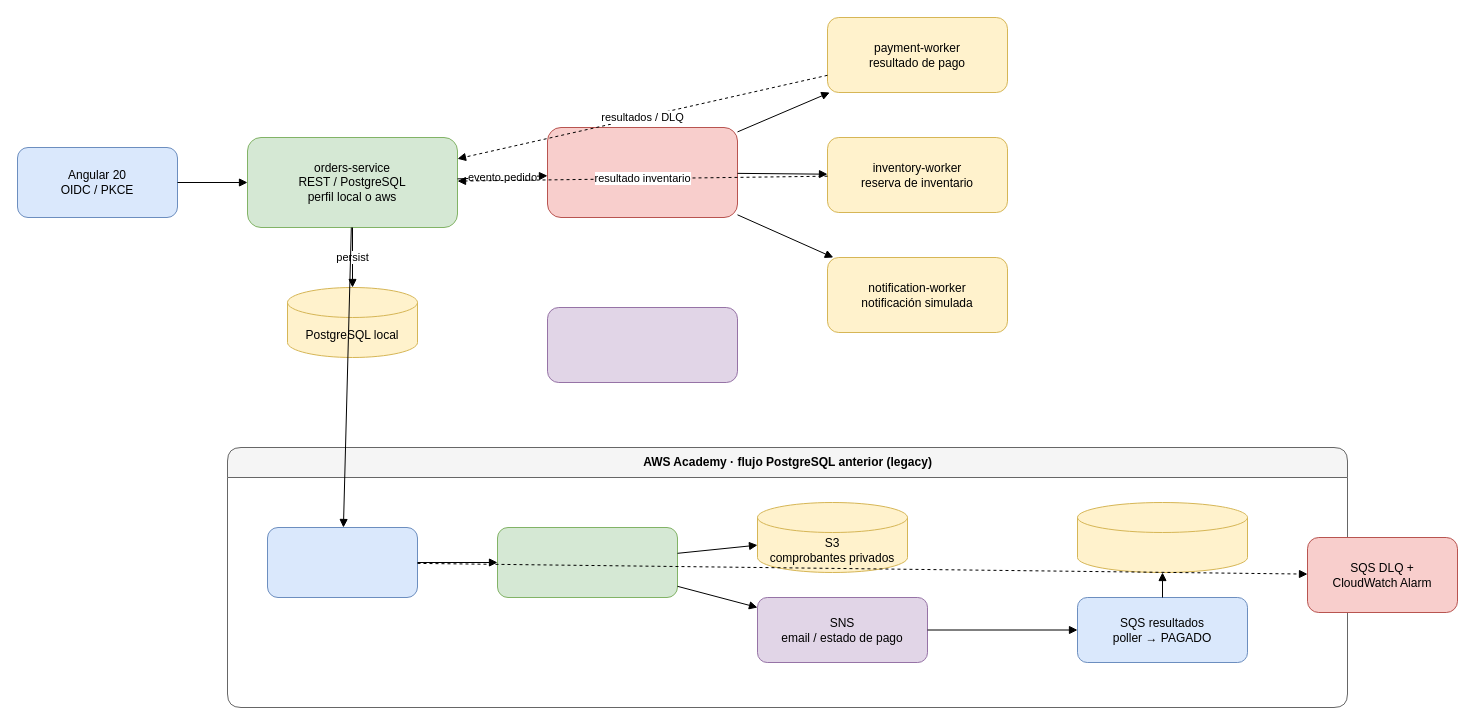
The diagram is 1475 pixels wide and 725 high, and some of its shapes have lost their labels. The centre of each missing label's shape, as x and y in pixels:
Lambda Java 21 procesa / falla veneno: (x=587, y=562)
rabbit-admin-service REST de topología: (x=642, y=344)
RabbitMQ topic exchange + DLX/DLQ: (x=642, y=172)
RDS PostgreSQL orders-service: (x=1162, y=537)
SQS pedidos redrive → DLQ: (x=342, y=562)
